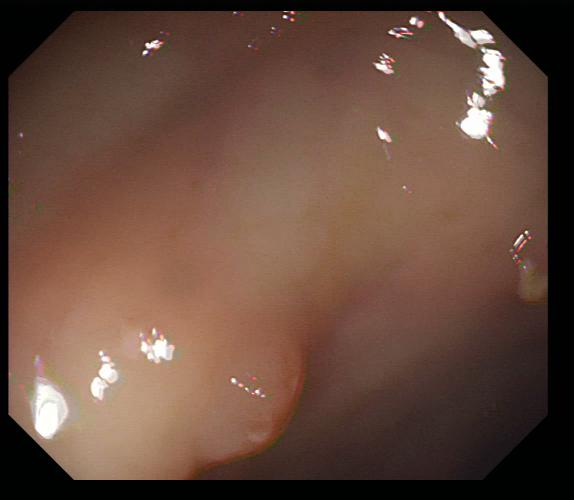polyp: (205, 323, 311, 467)
